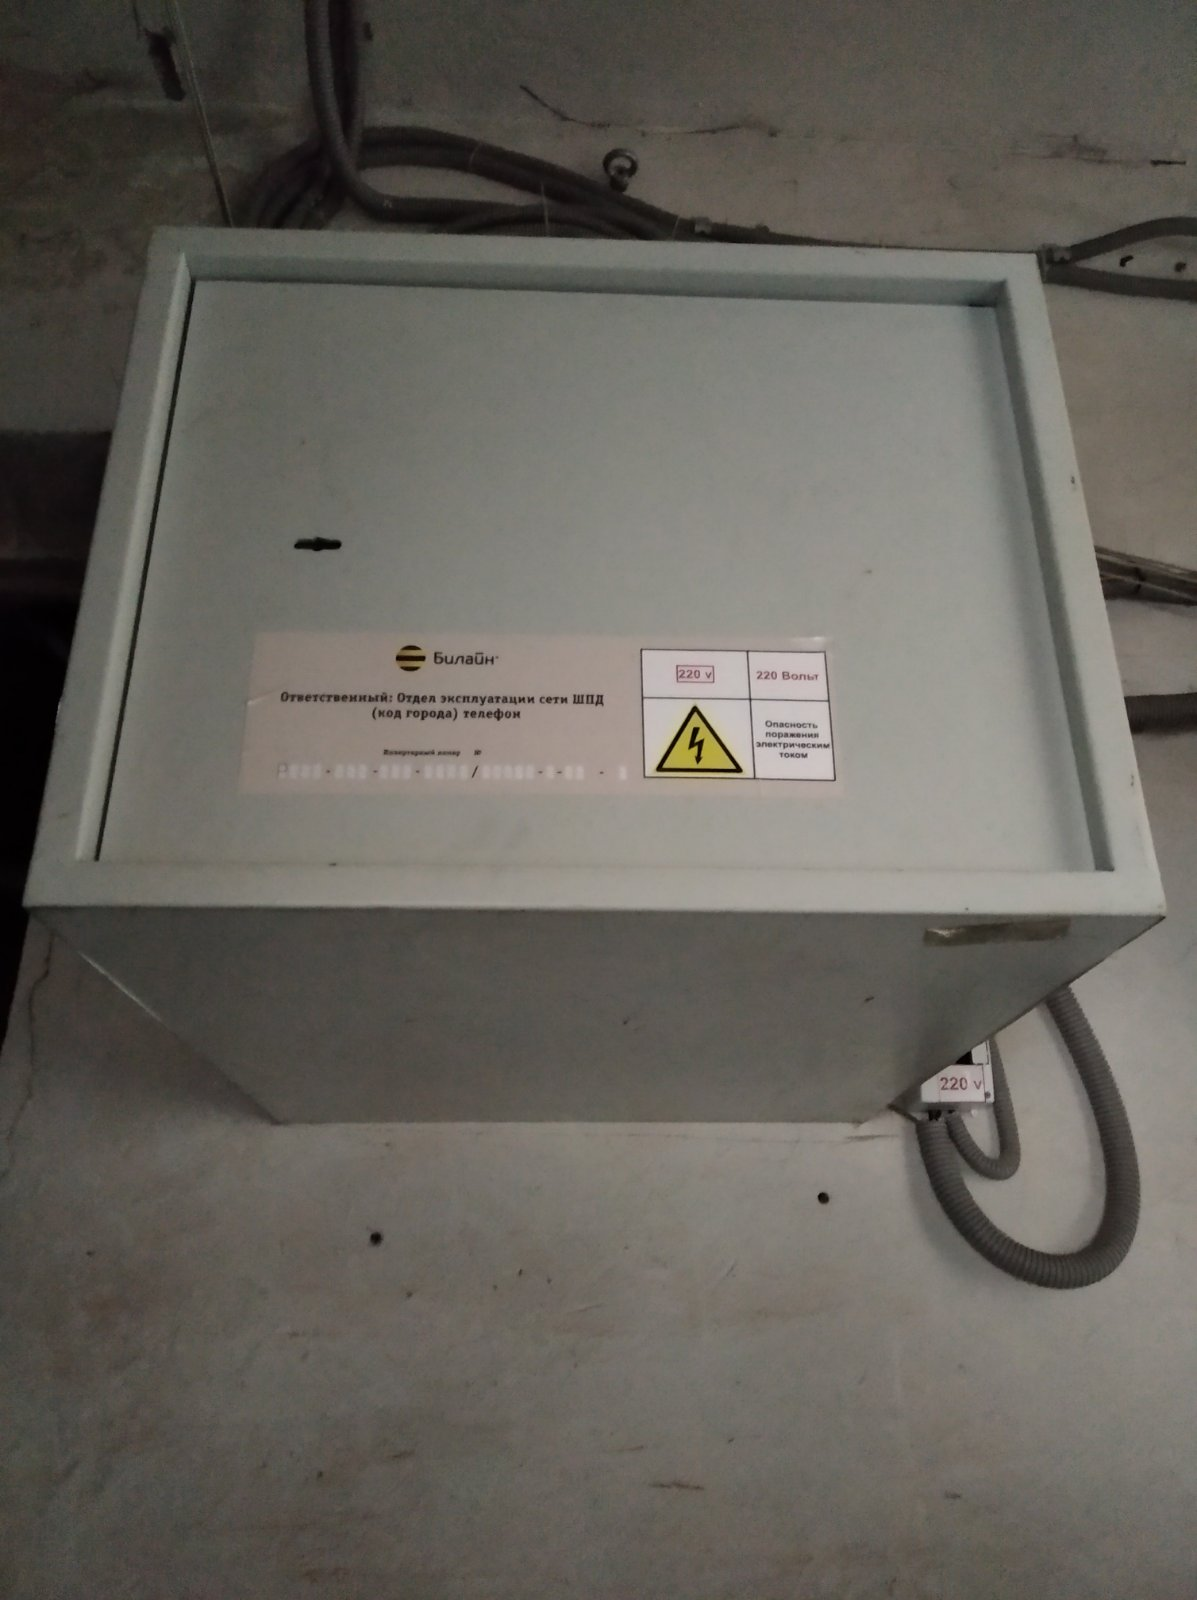shta-9m: (10, 217, 1173, 1130)
